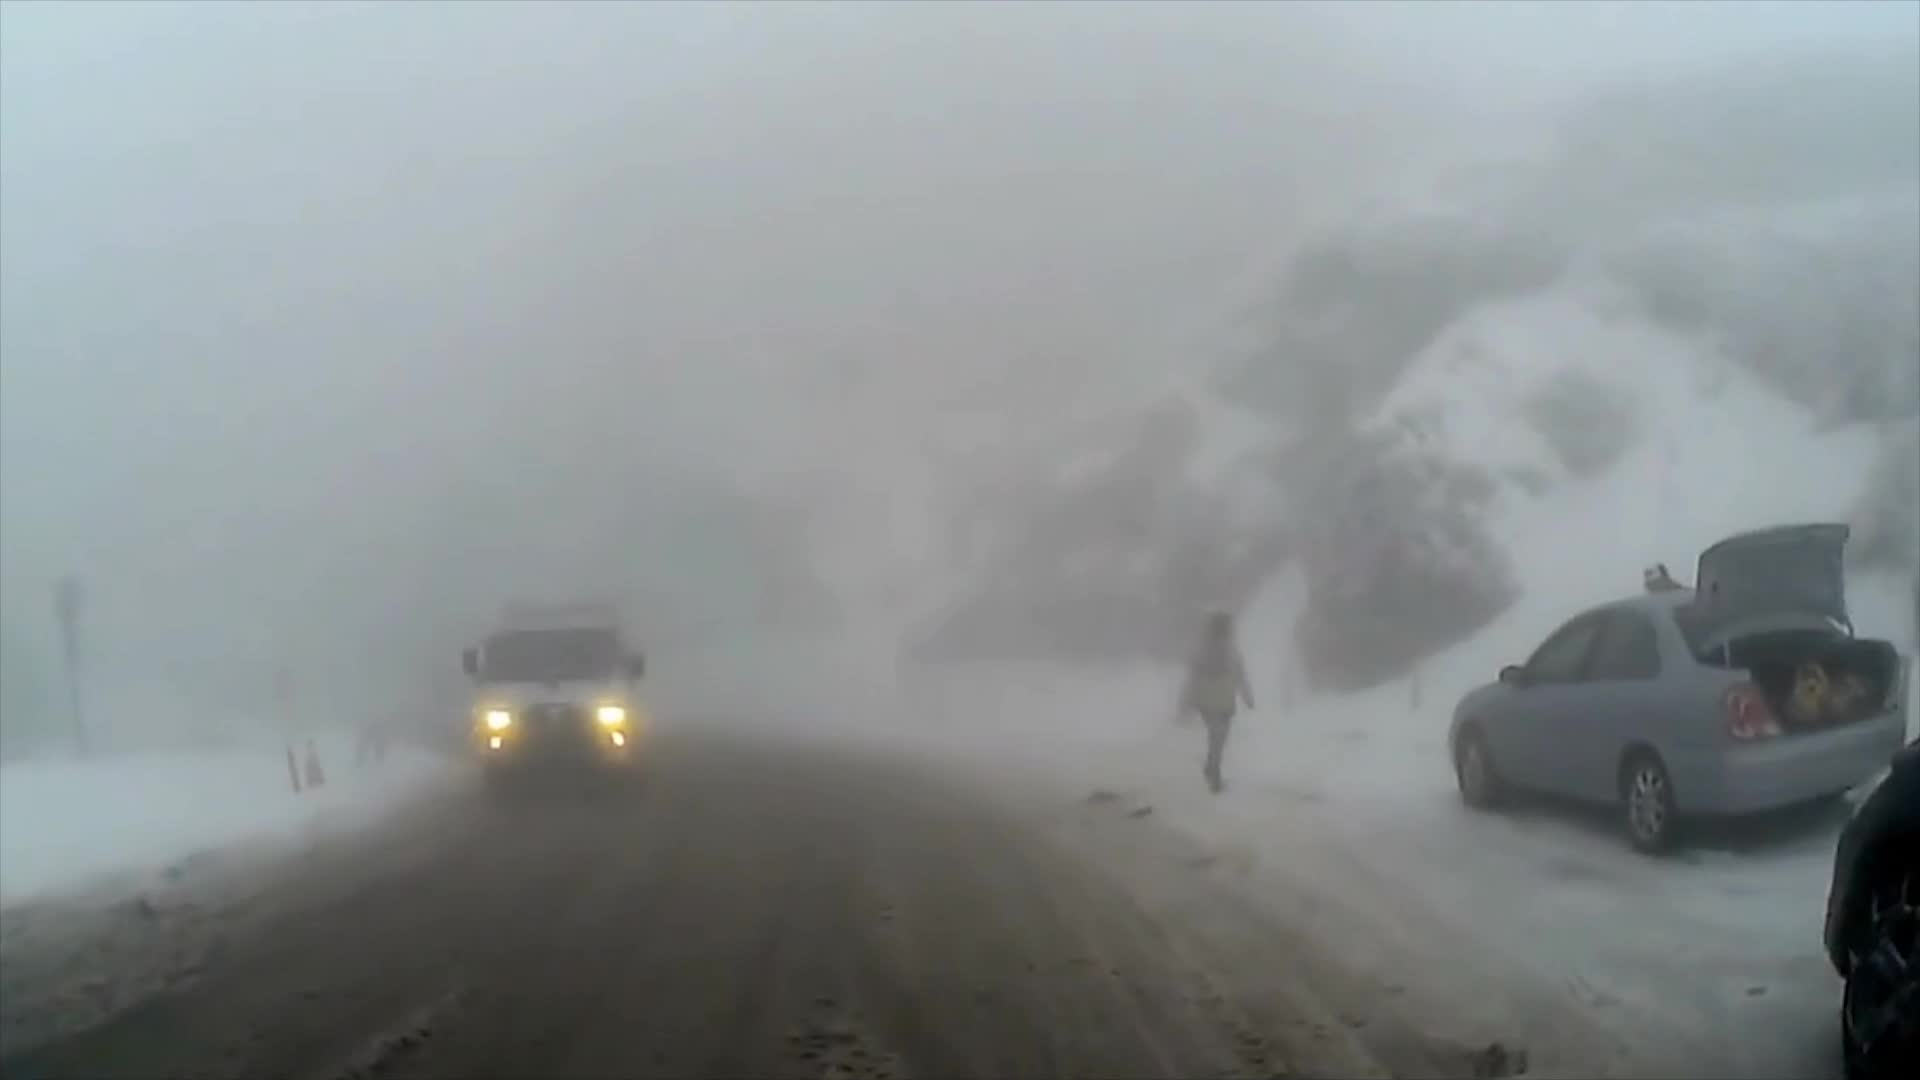pedestrian: (1175, 605, 1255, 797)
vehicle: (1443, 514, 1917, 857), (454, 598, 646, 806), (1821, 734, 1919, 1078)
